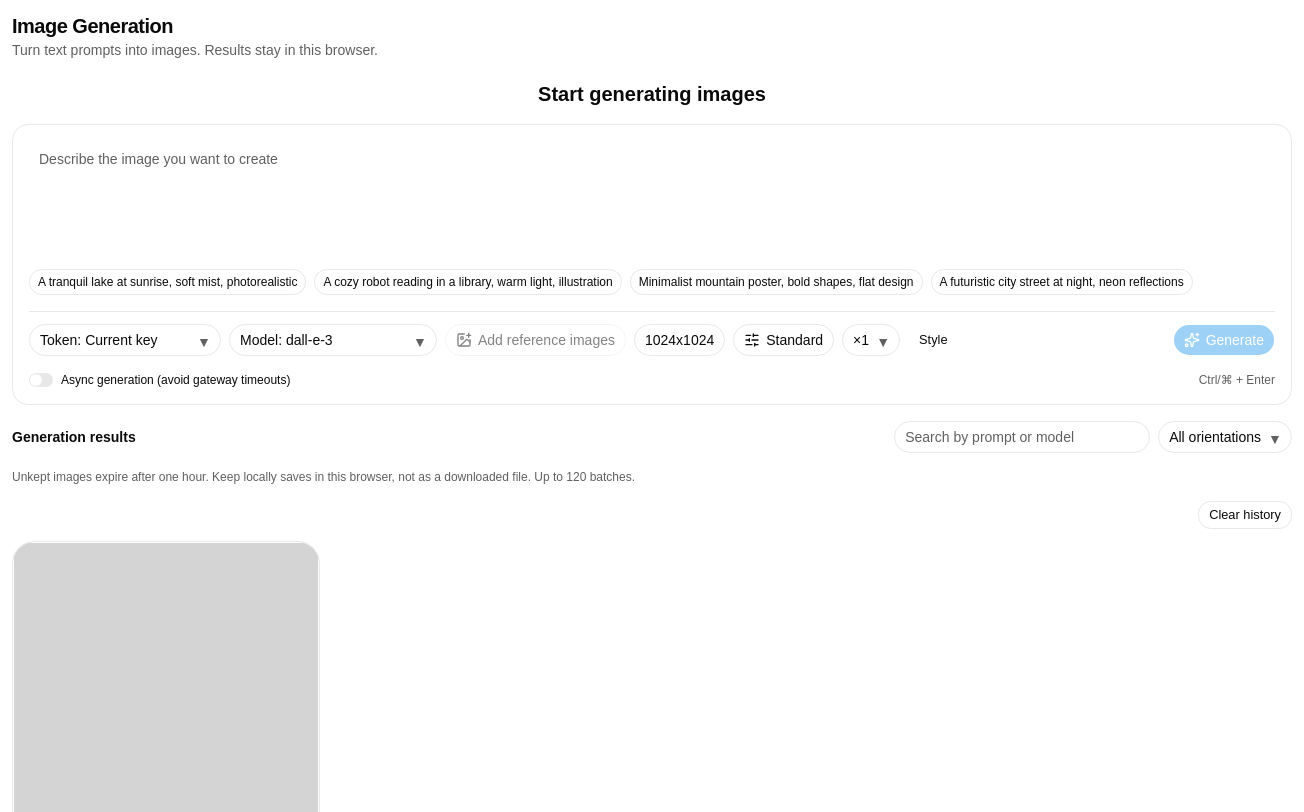
Test: empty upstream response retains prompt and previous artwork with a retry hint
Step 1. Type "New landscape" into the text box named "Prompt" → x=652, y=201, box [29,141,1275,261]
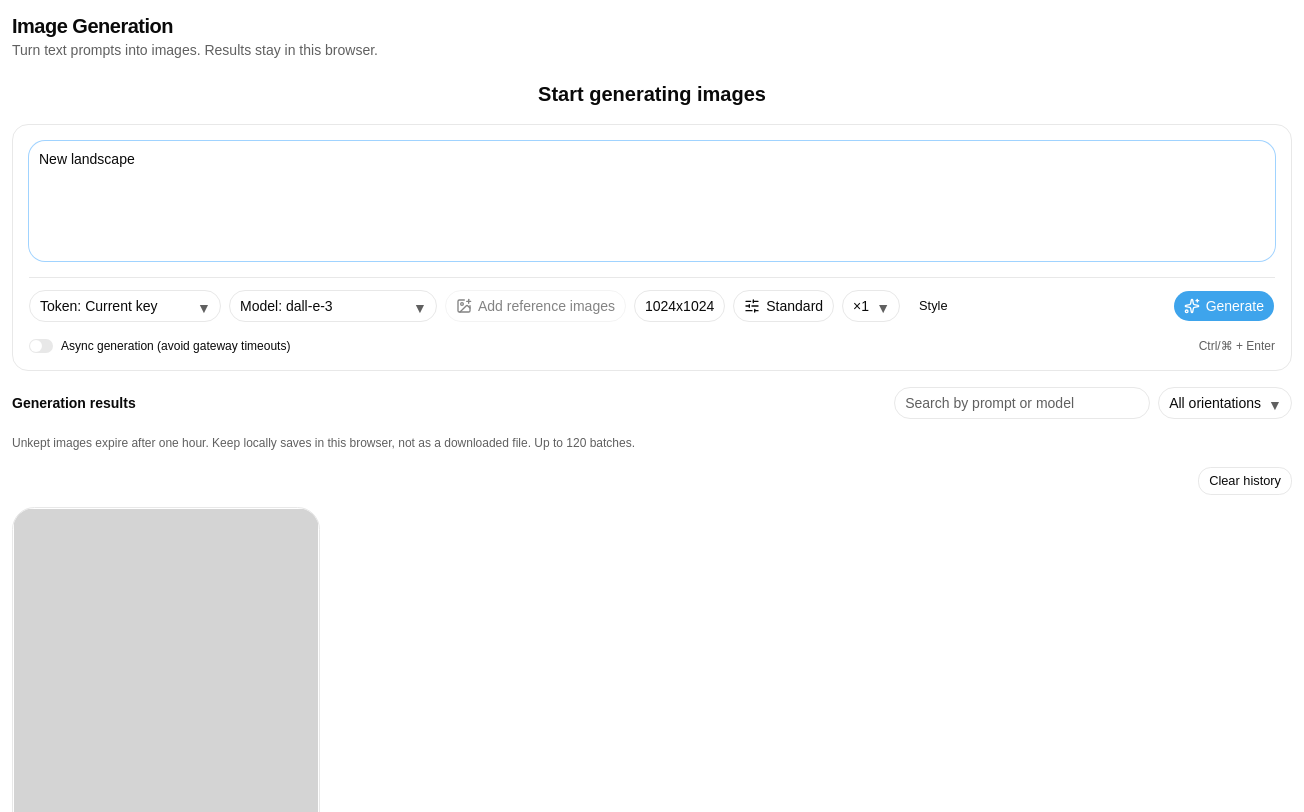
Step 2. Click the button "Generate" → x=1224, y=306, box [1173,290,1275,322]
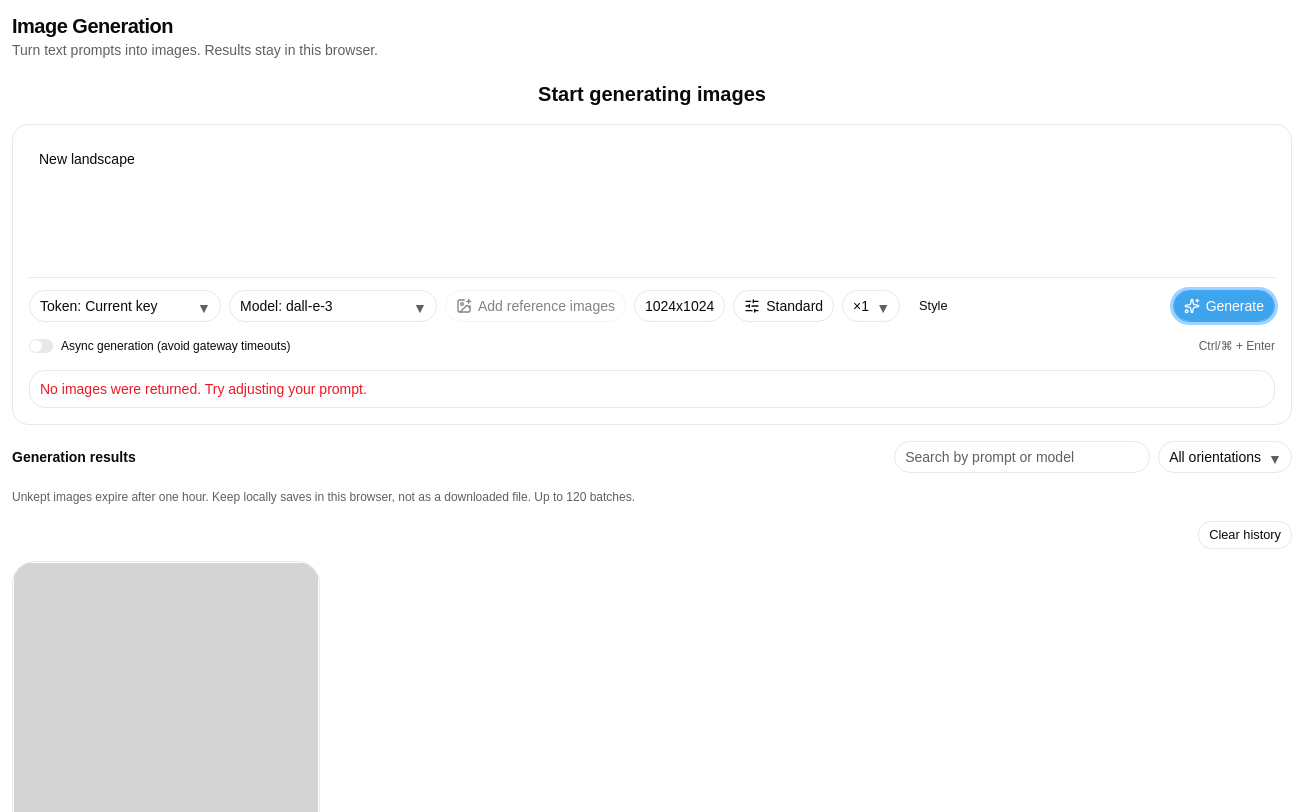
Expected: the button "Generate" is enabled, [1173,290,1275,322]
Expected: the text "No images were returned. Try adjusting your prompt." is shown, [40,381,367,397]
